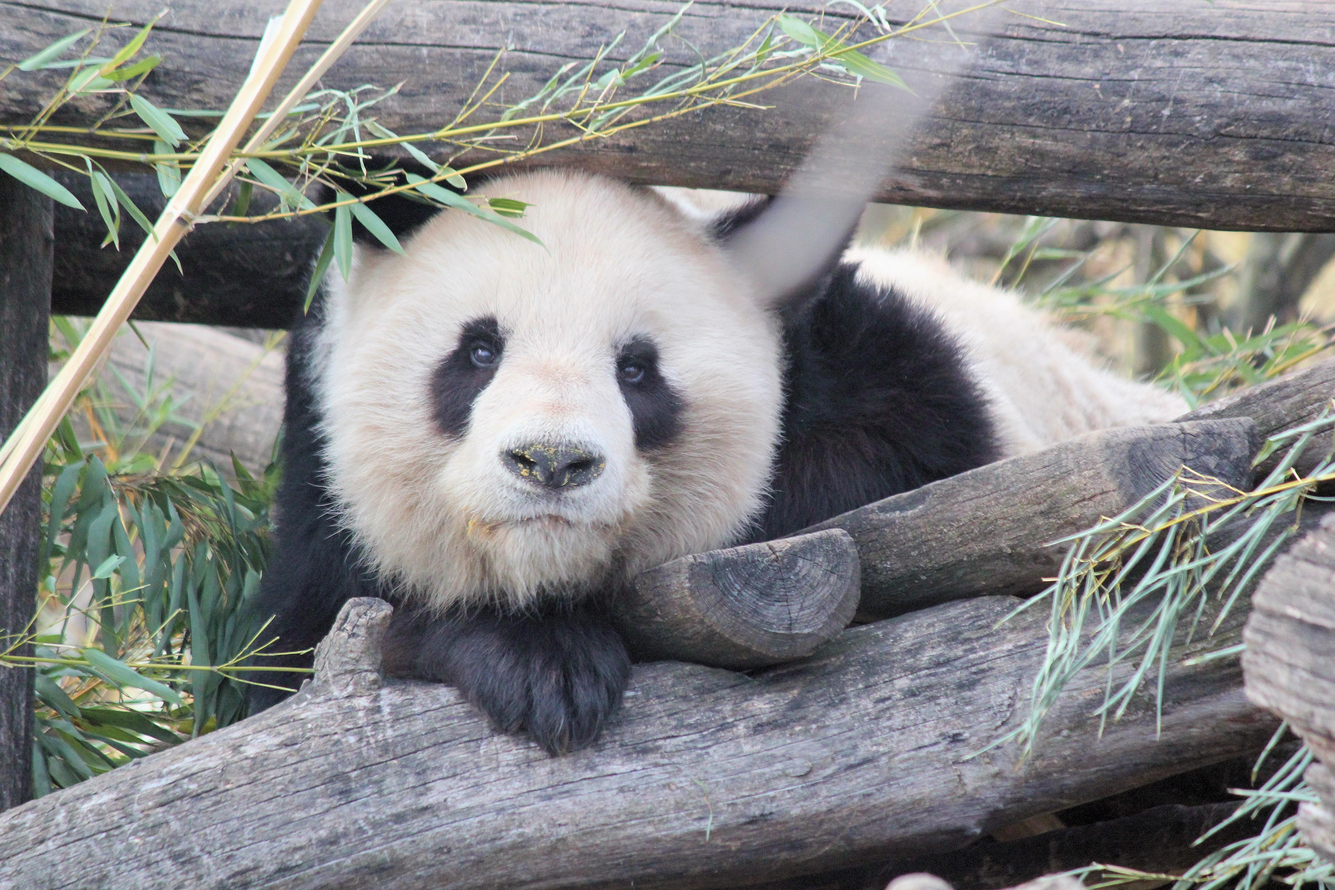panda: (279, 156, 1190, 753)
